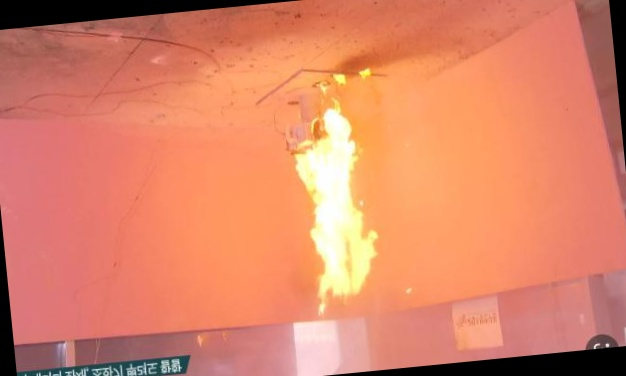fire: (268, 77, 401, 323)
